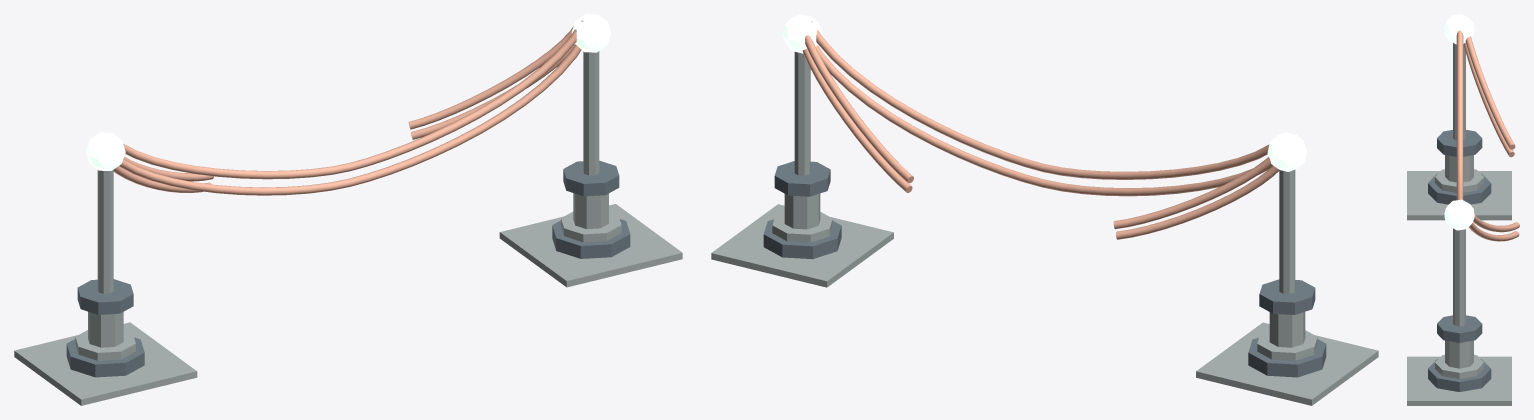
Rendered from Hab_Power 2.fbx.
3 renders of one model, left to right at view 1: azimuth 30°, elevation 25°; view 2: azimuth 150°, elevation 25°; view 3: azimuth 270°, elevation 25°, orthographic. The views are drawn at different scales.
Visible parts, largest first — view 1: HabPowerPoles; view 2: HabPowerPoles; view 3: HabPowerPoles.
Boxes of the visible parts, x1,y1,x2,y2 form: HabPowerPoles: (14, 14, 682, 405); HabPowerPoles: (711, 14, 1378, 405); HabPowerPoles: (1407, 14, 1519, 405).
Bounding box in the file's own units: 1503 × 558 × 312.
